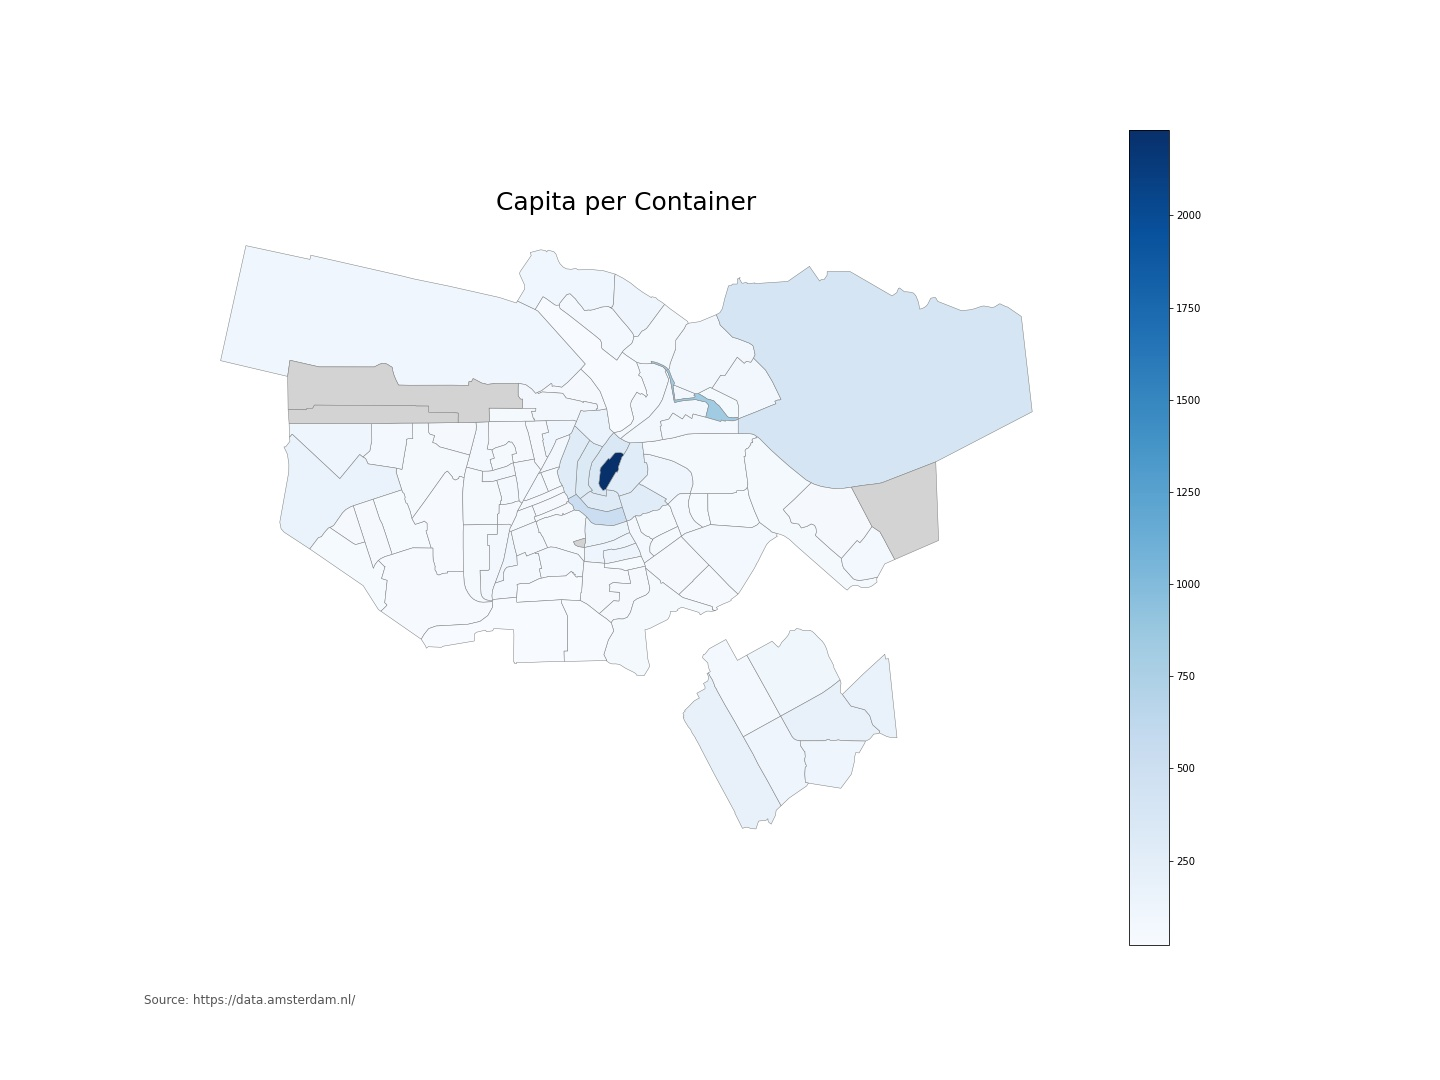

This screenshot's page, from the dashboard's own definition file:
{"tool":"tableau","page":{"name":"Home","canvas":[1000,1000],"units":"permille","ordinal":0},"visuals":[{"type":"currpage","title":"Dashboard Header","box":[4.6,8.8,169,53.6]},{"type":"worksheet","title":"Dashboard Header","mark":"Automatic","box":[173.6,8.8,821.8,103.7]},{"type":"worksheet","title":"Density Map","mark":"Automatic","box":[4.6,112.5,990.9,878.8]}]}

Visuals, with their boxes on the dashboard's canvas, which has no fixed pixel size, in thousandths of its width and height (x1, y1, x2, y2). These are canvas units, not pixel positions in the 1440x1080 screenshot, which may show the page scaled, cropped or inside an application window:
"Dashboard Header" currpage: crop(5, 9, 174, 62)
"Dashboard Header" worksheet: crop(174, 9, 995, 112)
"Density Map" worksheet: crop(5, 112, 996, 991)
